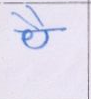ai_matra: (11, 8, 49, 27)
